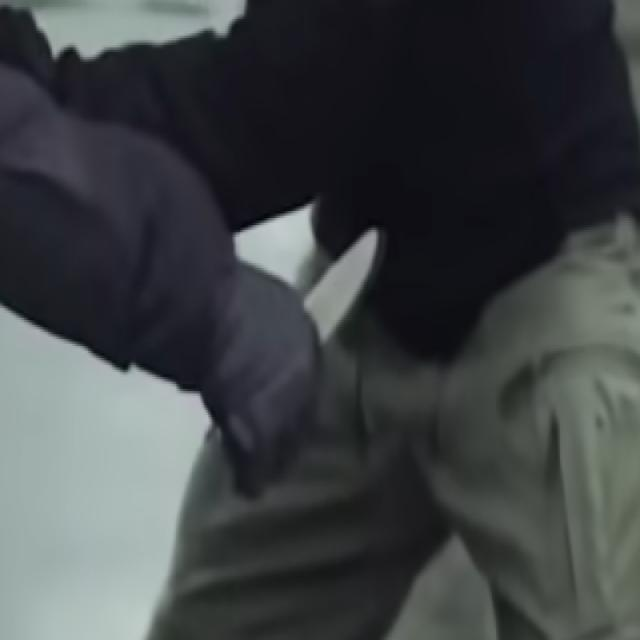Fknife: (288, 208, 387, 390)
